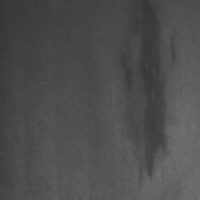inclusion: (120, 1, 173, 184)
